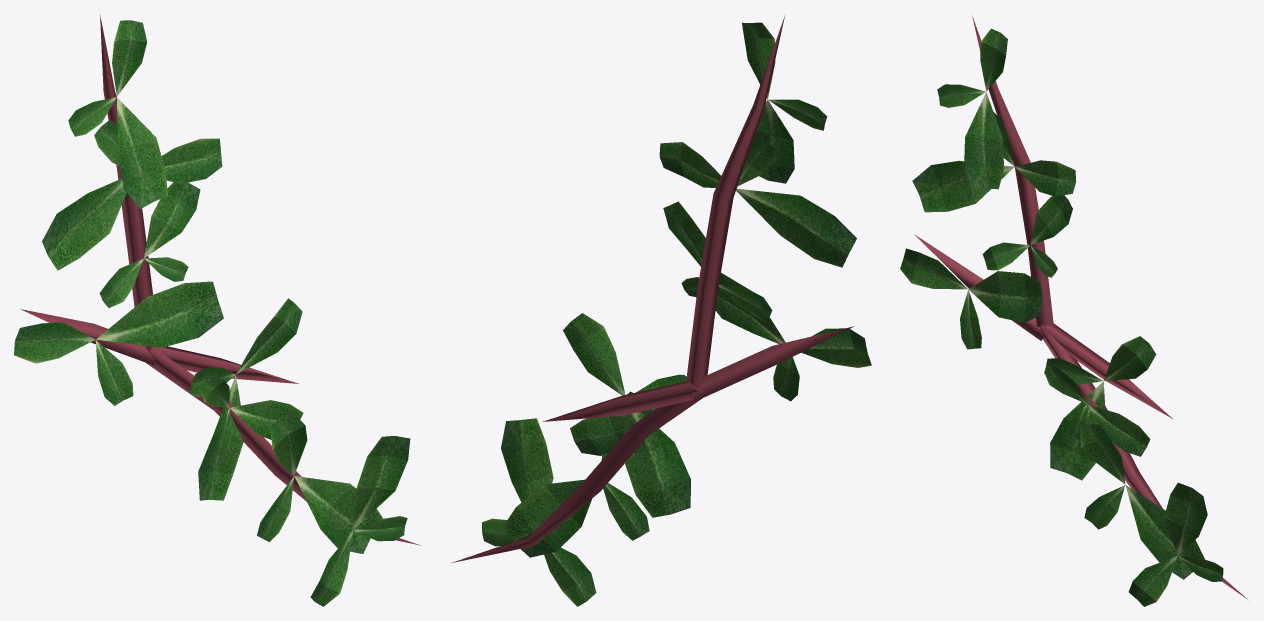
File: portucala_07.obj
The picture shows the model from 3 angles, left to right: view 1: azimuth 30°, elevation 25°; view 2: azimuth 150°, elevation 25°; view 3: azimuth 330°, elevation 25°; orthographic projection. The views are drawn at different scales.
Parts seen in each view (by area): view 1: portucala.006; view 2: portucala.006; view 3: portucala.006.
Boxes of the visible parts, x1,y1,x2,y2 form: portucala.006: (14,14,420,606); portucala.006: (452,16,871,606); portucala.006: (900,15,1247,606).
Size of the model in its own units: 0.1635 by 0.2432 by 0.0317.
